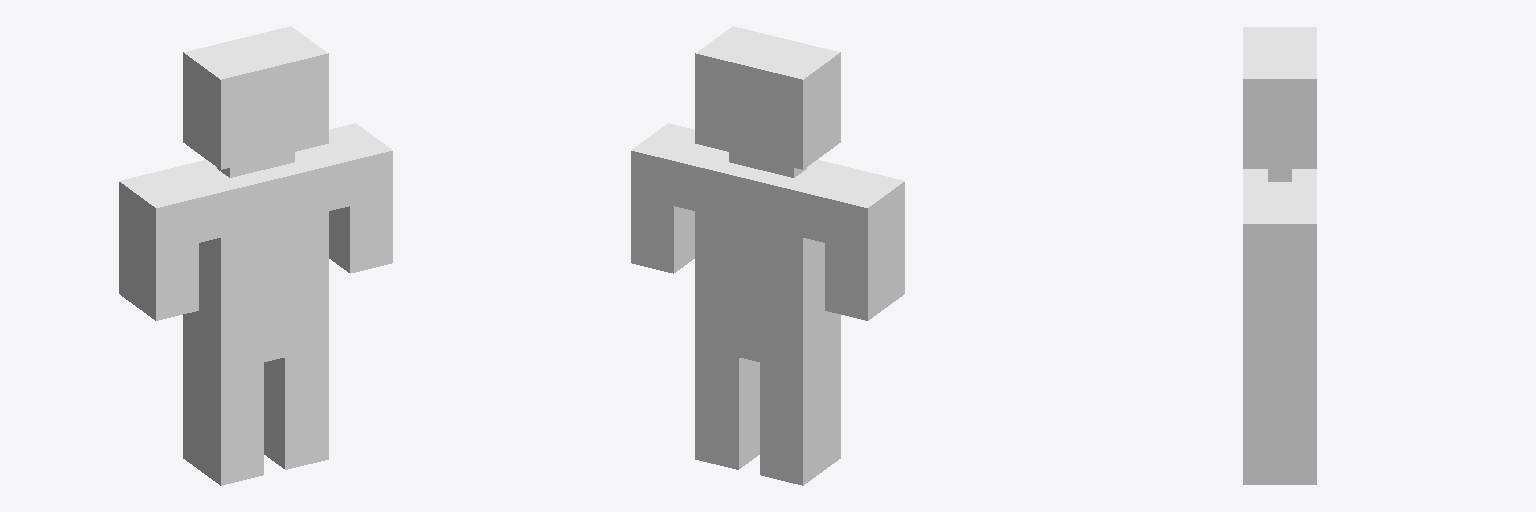
Rendered from Hostage1.obj.
3 renders of one model, left to right at view 1: azimuth 30°, elevation 25°; view 2: azimuth 150°, elevation 25°; view 3: azimuth 270°, elevation 25°, orthographic.
Bounding box in the file's own units: 11 × 18 × 3.